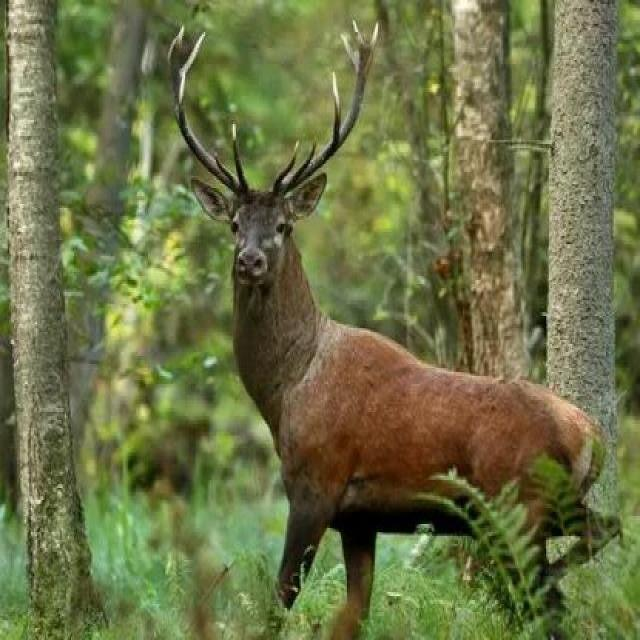deer: (180, 77, 630, 640)
